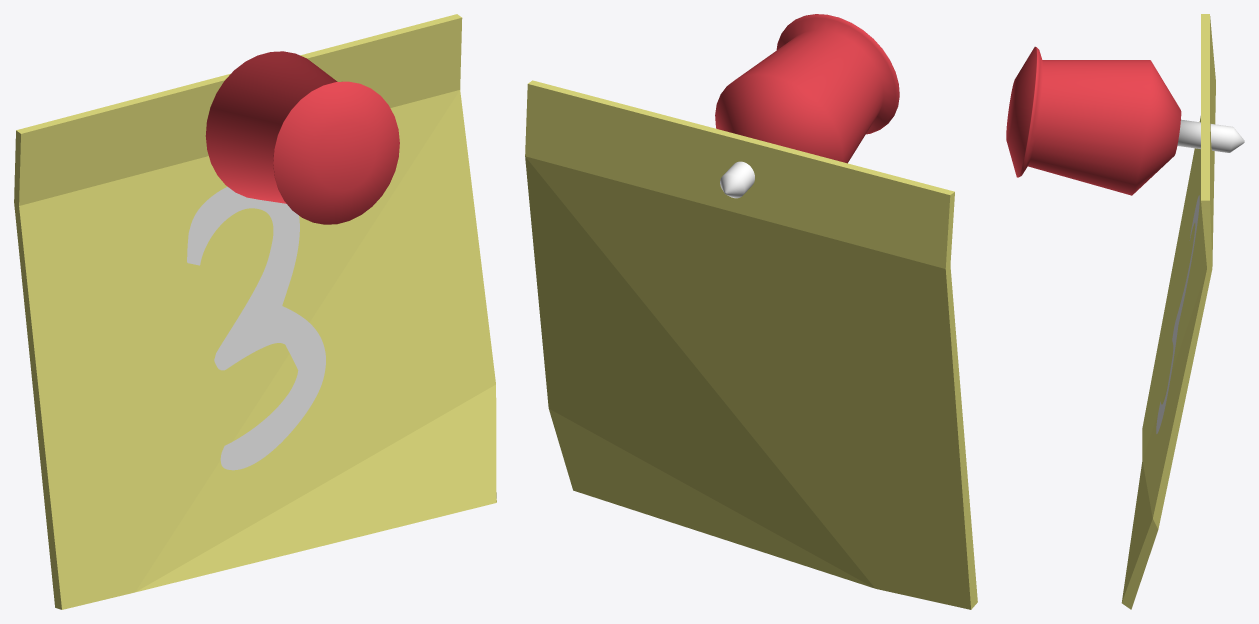
The model's file is level3.fbx.
The picture shows the model from 3 angles, left to right: view 1: azimuth 30°, elevation 25°; view 2: azimuth 150°, elevation 25°; view 3: azimuth 270°, elevation 25°; orthographic projection. The views are drawn at different scales.
Parts seen in each view (by area): view 1: SM_Prop_Note_04, pin.001, Text.001; view 2: SM_Prop_Note_04, pin.001; view 3: pin.001, SM_Prop_Note_04, Text.001.
Boxes of the visible parts, x1,y1,x2,y2 form: SM_Prop_Note_04: [14, 14, 496, 609]; pin.001: [205, 51, 399, 224]; Text.001: [187, 186, 325, 470]; SM_Prop_Note_04: [525, 80, 977, 609]; pin.001: [715, 14, 899, 198]; pin.001: [1006, 46, 1244, 195]; SM_Prop_Note_04: [1121, 14, 1215, 609]; Text.001: [1156, 195, 1199, 433].
Size of the model in its own units: 103 by 114 by 52.33.
